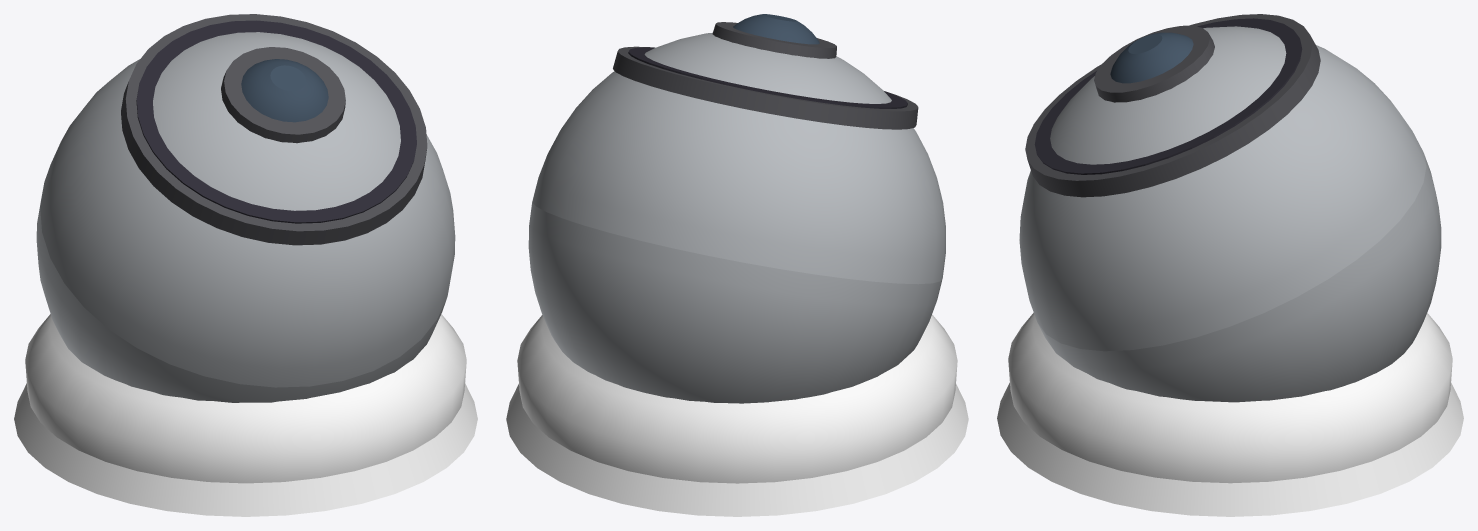
The model's file is CCT-DAH-HDW1200TRQP.glb.
3 views of the same model, side by side, from view 1: azimuth 30°, elevation 25°; view 2: azimuth 150°, elevation 25°; view 3: azimuth 270°, elevation 25° (orthographic).
Parts seen in each view (by area): view 1: CCT-DAH-HDW1200TRQP; view 2: CCT-DAH-HDW1200TRQP; view 3: CCT-DAH-HDW1200TRQP.
Part boxes in pixels (left/top/right/bottom): CCT-DAH-HDW1200TRQP: left=14, top=14, right=477, bottom=516; CCT-DAH-HDW1200TRQP: left=506, top=14, right=968, bottom=516; CCT-DAH-HDW1200TRQP: left=997, top=14, right=1463, bottom=516.
Size of the model in its own units: 0.101 by 0.0932 by 0.101.
